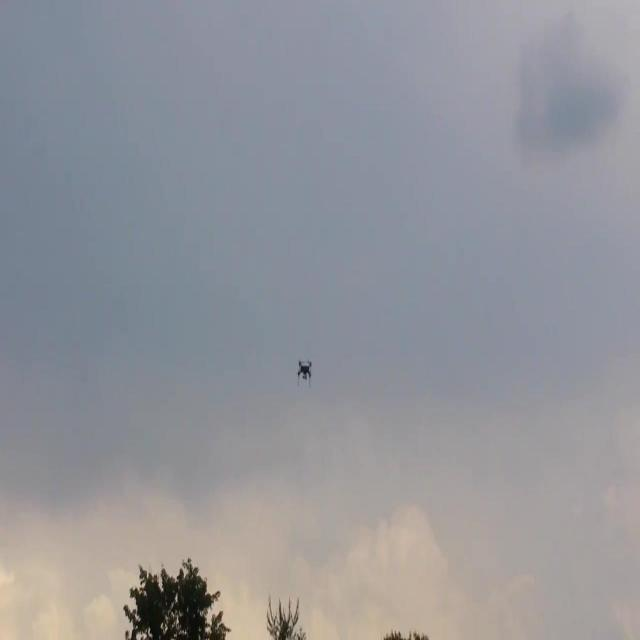UAV: (296, 359, 312, 389)
